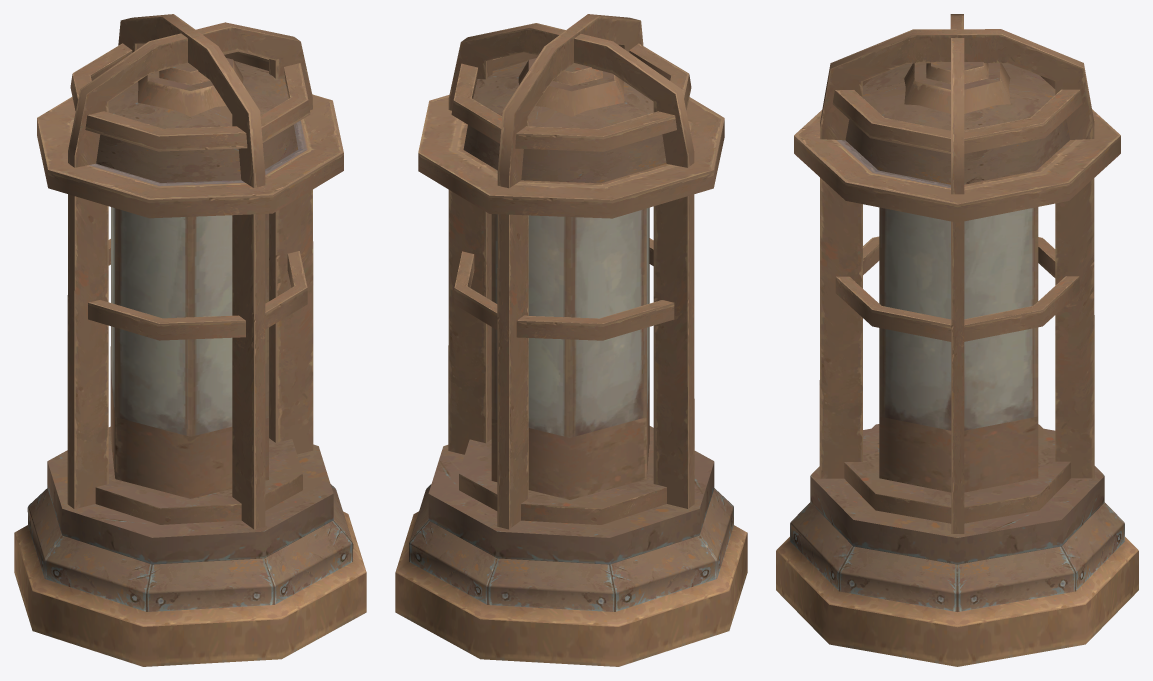
File: Homeworld_Exterior_Fd_Lamp_Light_EverLit_02_Vo.fbx
3 views of the same model, side by side, from view 1: azimuth 30°, elevation 25°; view 2: azimuth 150°, elevation 25°; view 3: azimuth 270°, elevation 25° (orthographic).
Visible parts, largest first — view 1: Area_Fd_Light_SXGC_Deng_EverLit_02_Vo; view 2: Area_Fd_Light_SXGC_Deng_EverLit_02_Vo; view 3: Area_Fd_Light_SXGC_Deng_EverLit_02_Vo.
Boxes of the visible parts, x1,y1,x2,y2 form: Area_Fd_Light_SXGC_Deng_EverLit_02_Vo: [14, 14, 366, 666]; Area_Fd_Light_SXGC_Deng_EverLit_02_Vo: [395, 14, 747, 666]; Area_Fd_Light_SXGC_Deng_EverLit_02_Vo: [776, 14, 1138, 666].
Bounding box in the file's own units: 1.61 × 2.73 × 1.61.
